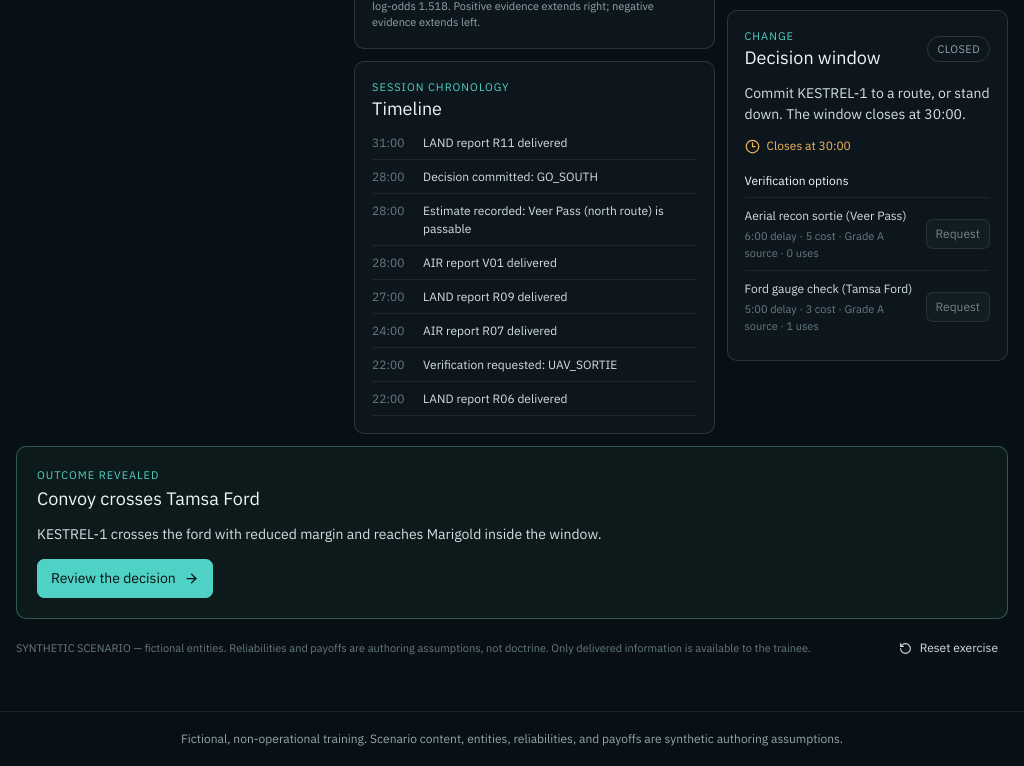
Scenario: local trainee journey › opens an AAR derived from the completed engine run with replay controls
The width and height of the screenshot is (1024, 766).
(page scrolled)
Step 1. Click the button with test id "open-aar" → coordinates (125, 579), box [37,559,213,598]
(page scrolled)
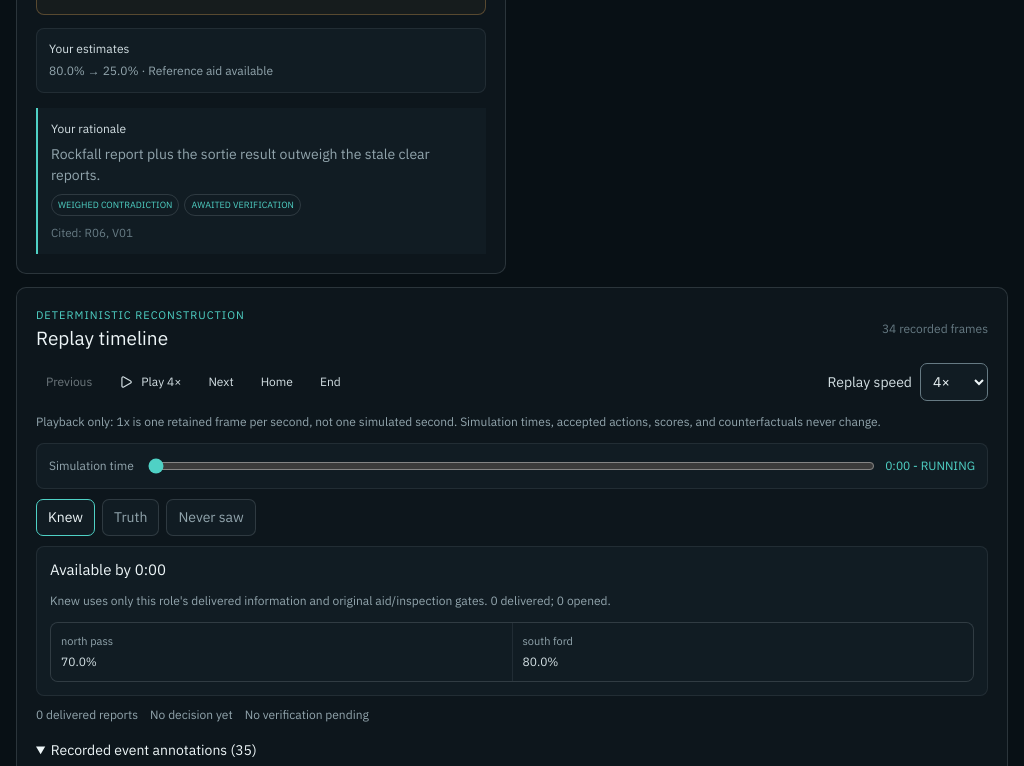
Expected: the slider with test id "aar-scrubber" is shown, [148,458,875,474]
Expected: the tab "Knew" is shown, [36,499,95,536]
Expected: the button with aria-label "Play replay at 4x" is shown, [109,367,191,397]
Step 2. Click the button "End" → coordinates (330, 382), box [310,367,351,397]
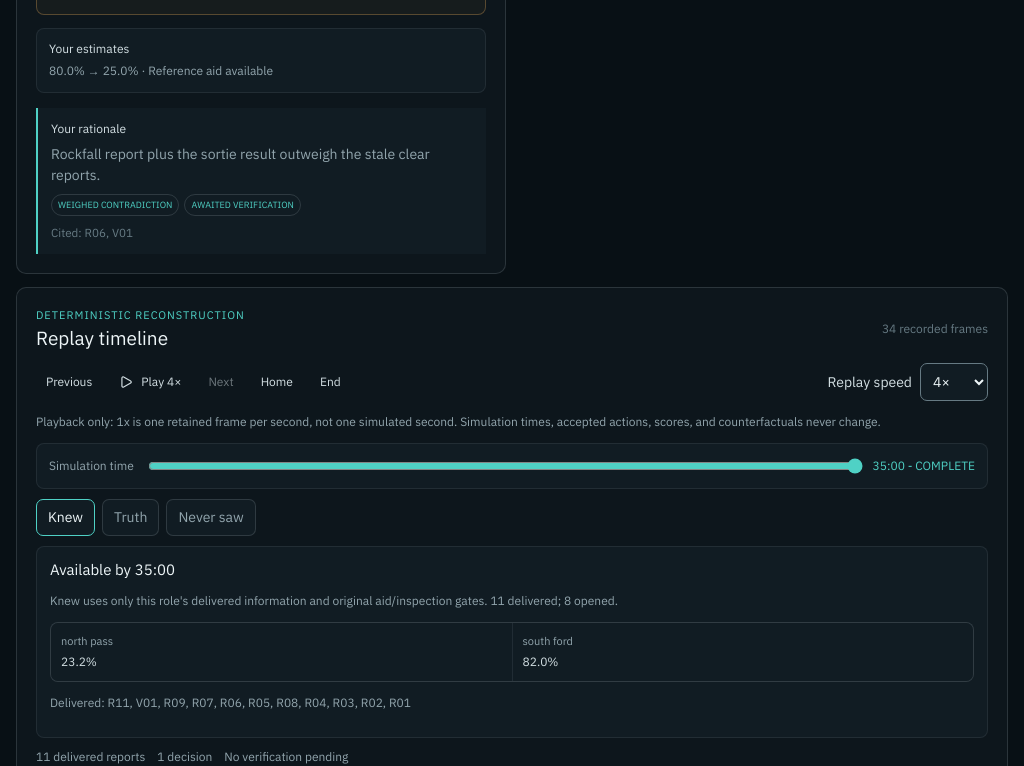
Expected: the text "1 decision" is shown, [157,748,212,765]
Step 3. Click the tab "Truth" → coordinates (131, 518), box [102,499,159,536]
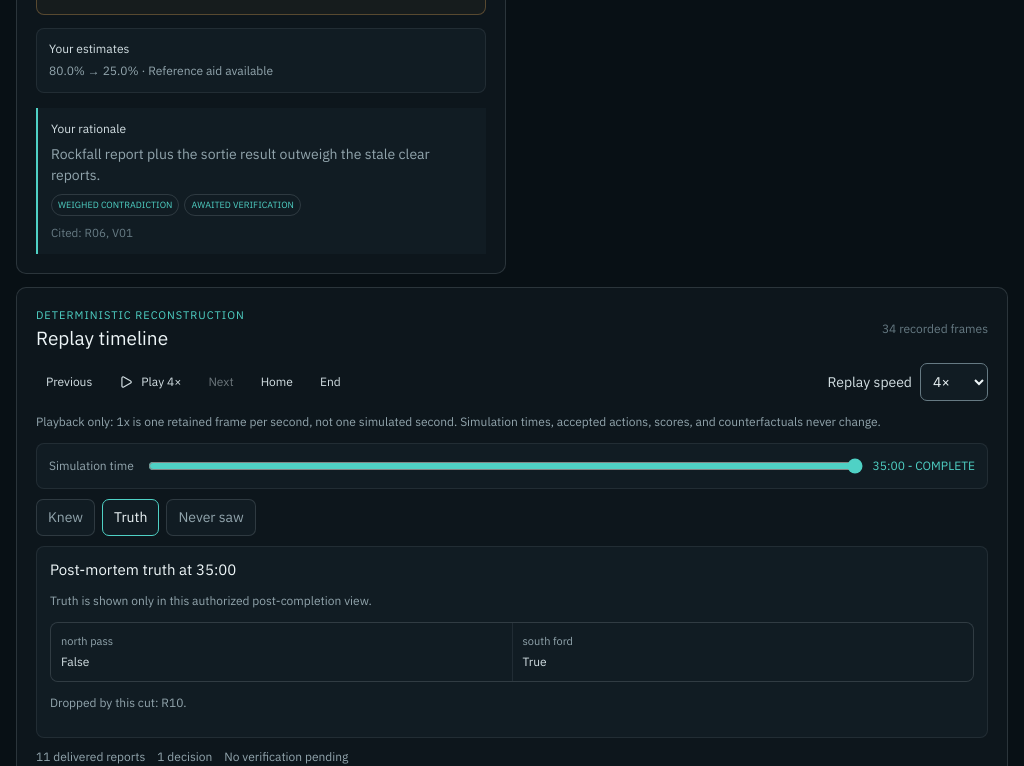
Expected: the heading "Post-mortem truth at 35:00" is shown, [50,560,236,579]
Step 4. Click the tab "Never saw" → coordinates (211, 518), box [166,499,256,536]
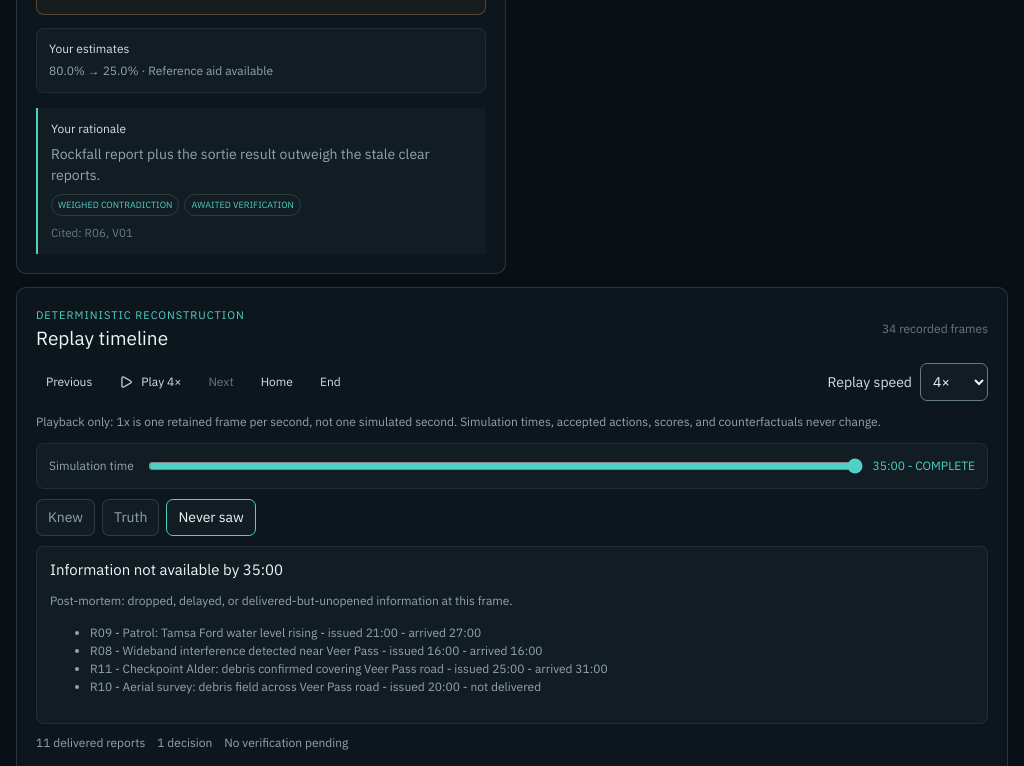
Expected: the heading "Information not available by 35:00" is shown, [50,560,283,579]
